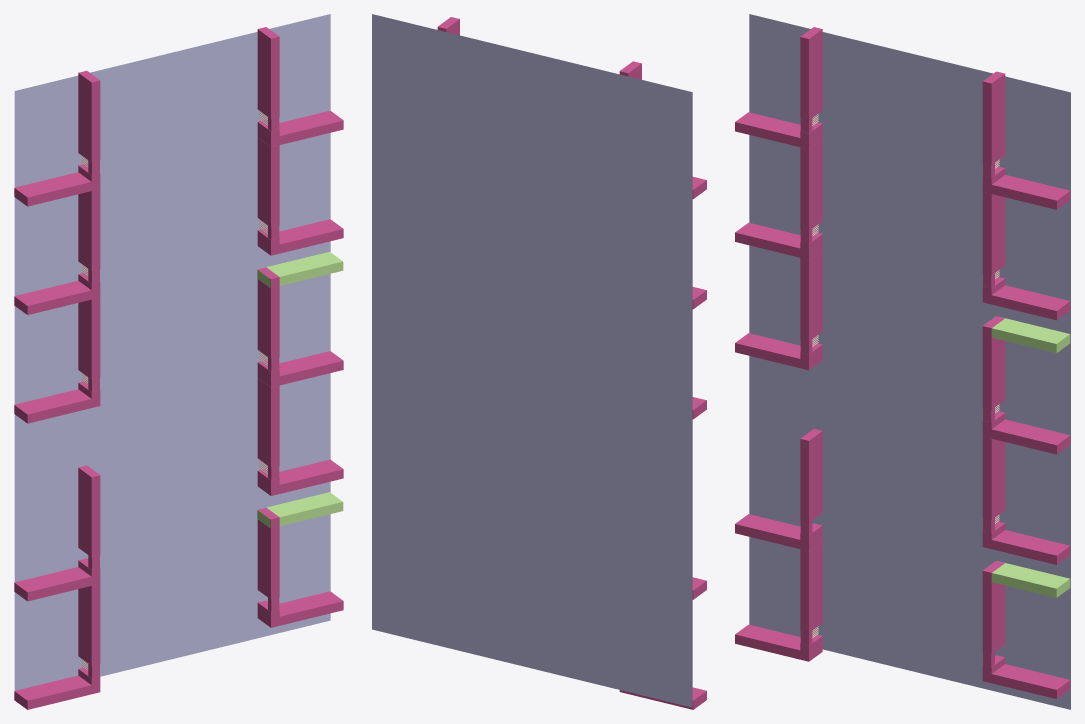
The model's file is lvl1.fbx.
3 views of the same model, side by side, from view 1: azimuth 30°, elevation 25°; view 2: azimuth 150°, elevation 25°; view 3: azimuth 330°, elevation 25° (orthographic).
Parts seen in each view (by area): view 1: floor, room1walls003, room1walls, room2walls, room2walls004, room2walls003, room1walls002, room2walls001, room2walls002, room1walls001, room1walls004, Box002 (+1 smaller); view 2: floor, room1walls; view 3: floor, room2walls, room1walls003, room1walls, room2walls001, room2walls004, room2walls002, room2walls003, room1walls002, room1walls001, room1walls004, Box003 (+1 smaller).
Boxes of the visible parts, x1,y1,x2,y2 form: floor: [14, 14, 330, 690]; room1walls003: [14, 465, 100, 601]; room1walls: [14, 70, 100, 206]; room2walls: [257, 27, 343, 147]; room2walls004: [257, 507, 343, 627]; room2walls003: [257, 378, 343, 495]; room1walls002: [14, 297, 100, 423]; room2walls001: [257, 138, 343, 255]; room2walls002: [257, 267, 343, 387]; room1walls001: [14, 189, 100, 314]; room1walls004: [14, 584, 100, 709]; Box002: [257, 492, 343, 528]; floor: [372, 14, 692, 707]; room1walls: [619, 61, 706, 199]; floor: [749, 14, 1070, 709]; room2walls: [982, 71, 1070, 209]; room1walls003: [735, 429, 822, 551]; room1walls: [735, 27, 822, 149]; room2walls001: [982, 192, 1070, 320]; room2walls004: [982, 561, 1070, 698]; room2walls002: [982, 316, 1070, 454]; room2walls003: [982, 436, 1070, 564]; room1walls002: [735, 250, 822, 370]; room1walls001: [735, 140, 822, 259]; room1walls004: [735, 541, 822, 661]; Box003: [991, 318, 1070, 353].
Size of the model in its own units: 5414 by 10000 by 402.
